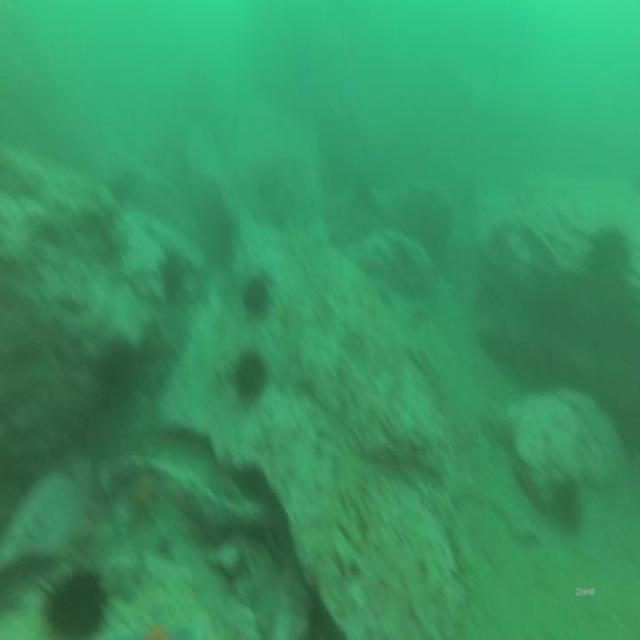echinus: (37, 554, 109, 640), (590, 220, 630, 289), (99, 336, 137, 404), (230, 343, 268, 406), (550, 469, 583, 536), (158, 252, 190, 312), (242, 270, 271, 322)
starfish: (125, 457, 163, 531), (126, 607, 204, 640)
